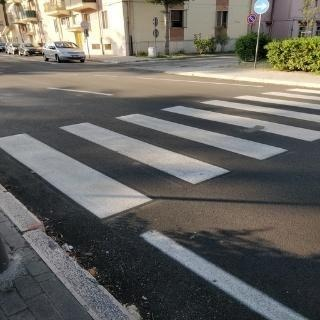road_crosswalk: (18, 82, 289, 215)
